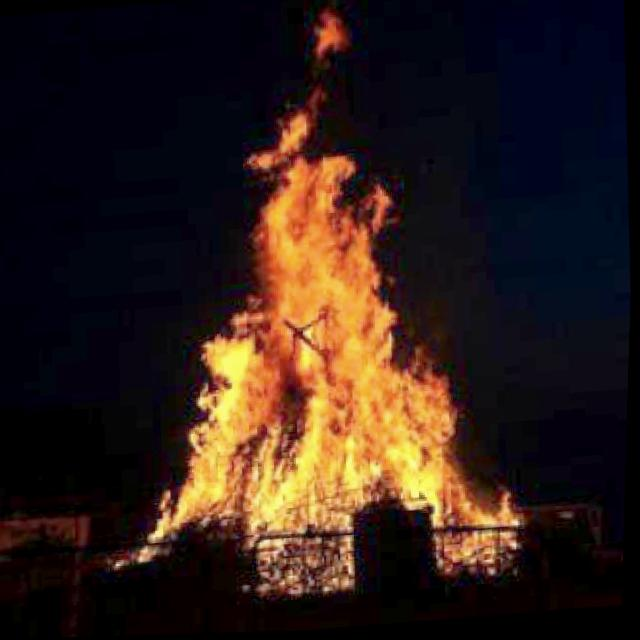helmet: (118, 0, 539, 585)
